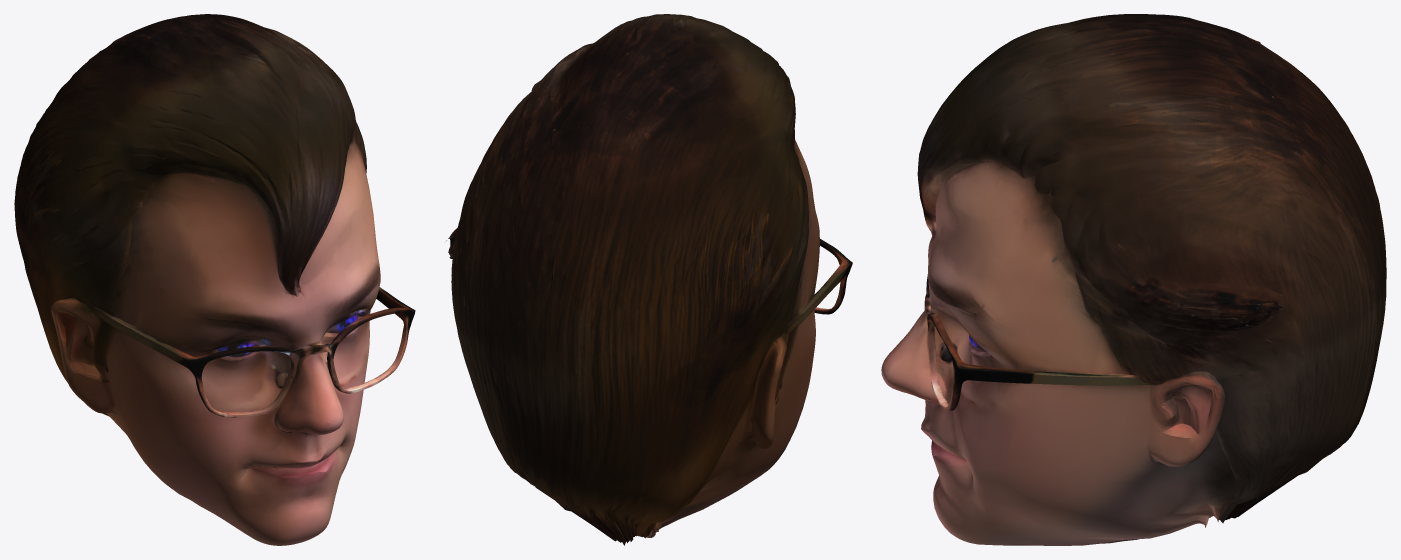
File: better_head.fbx
3 renders of one model, left to right at view 1: azimuth 30°, elevation 25°; view 2: azimuth 150°, elevation 25°; view 3: azimuth 270°, elevation 25°, orthographic. The views are drawn at different scales.
Parts seen in each view (by area): view 1: model.001; view 2: model.001; view 3: model.001.
Part boxes in pixels (left/top/right/bottom): model.001: left=14, top=14, right=415, bottom=545; model.001: left=446, top=14, right=852, bottom=545; model.001: left=881, top=14, right=1386, bottom=545.
Size of the model in its own units: 96.1 by 144 by 127.
